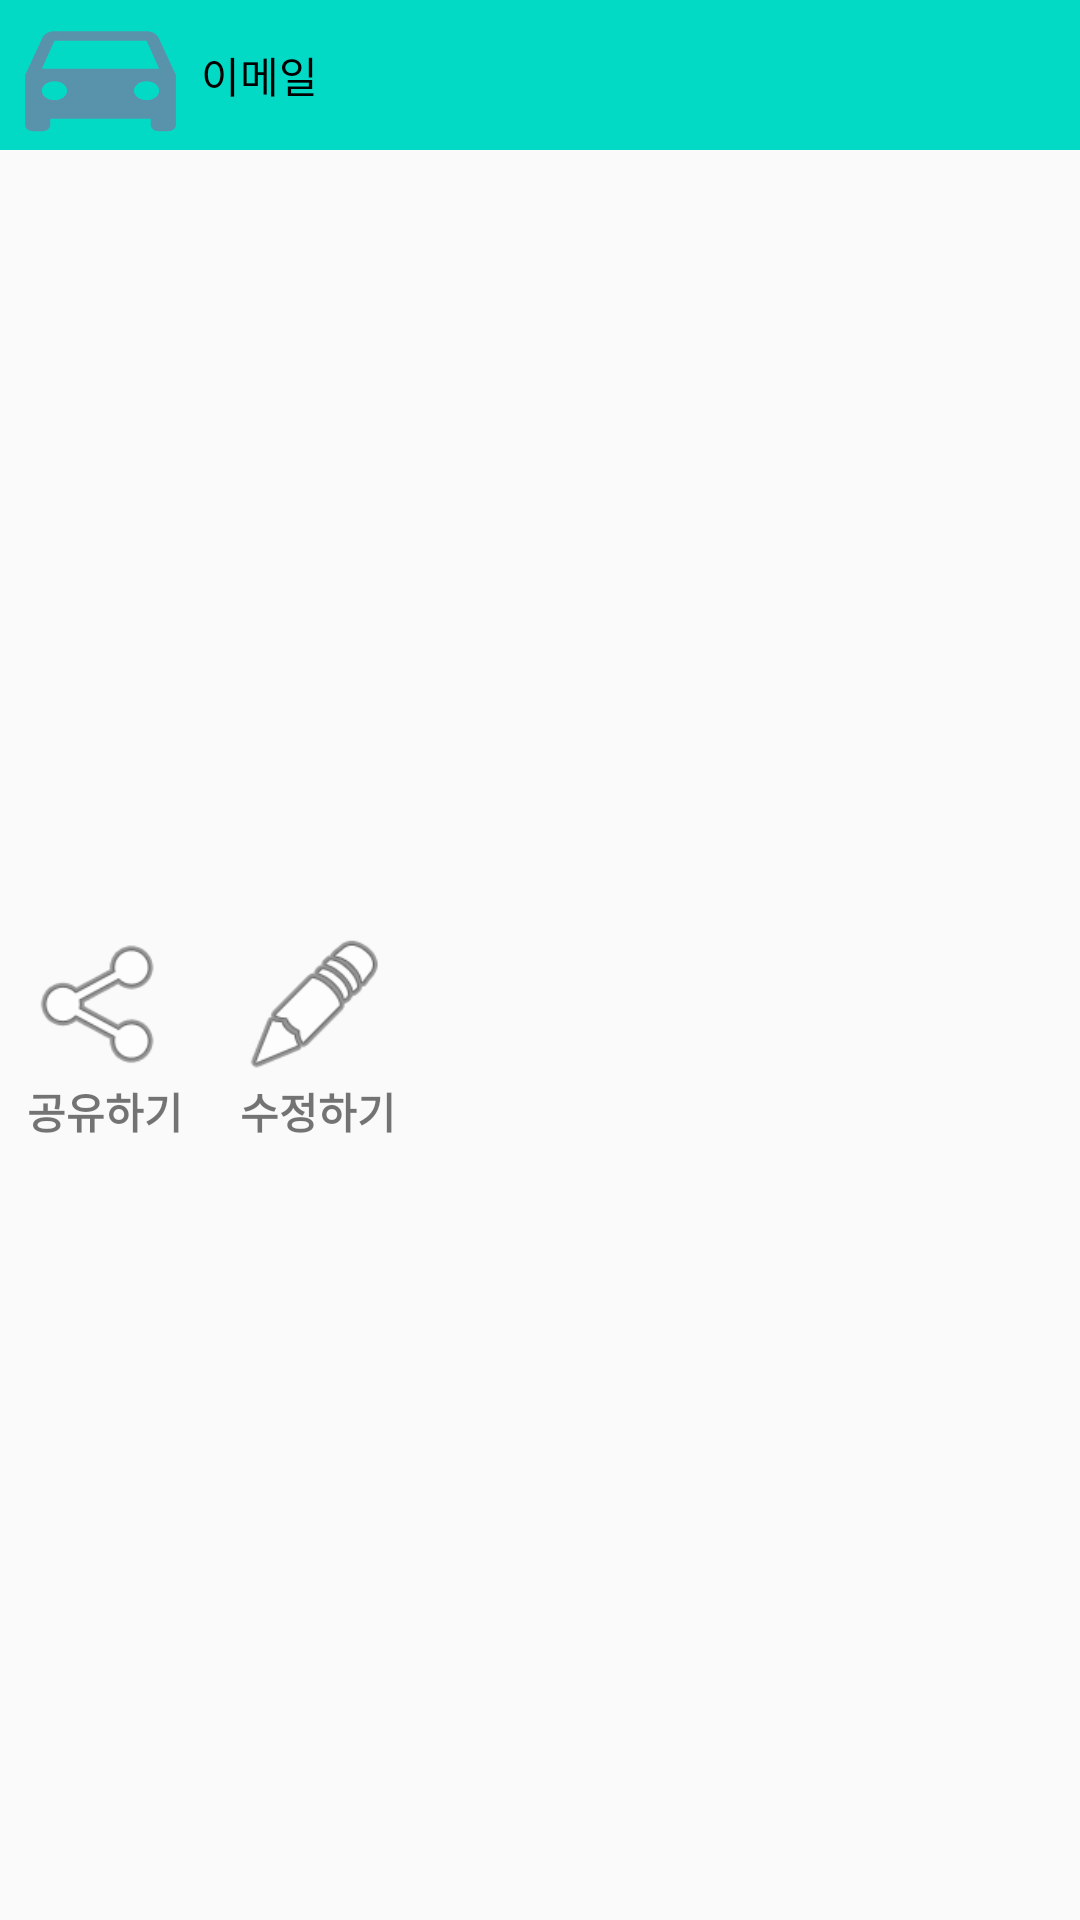

Where to tap for icons on this 1080×1920 app screen, as (x=x, y=y):
directions car: (x=100, y=81)
